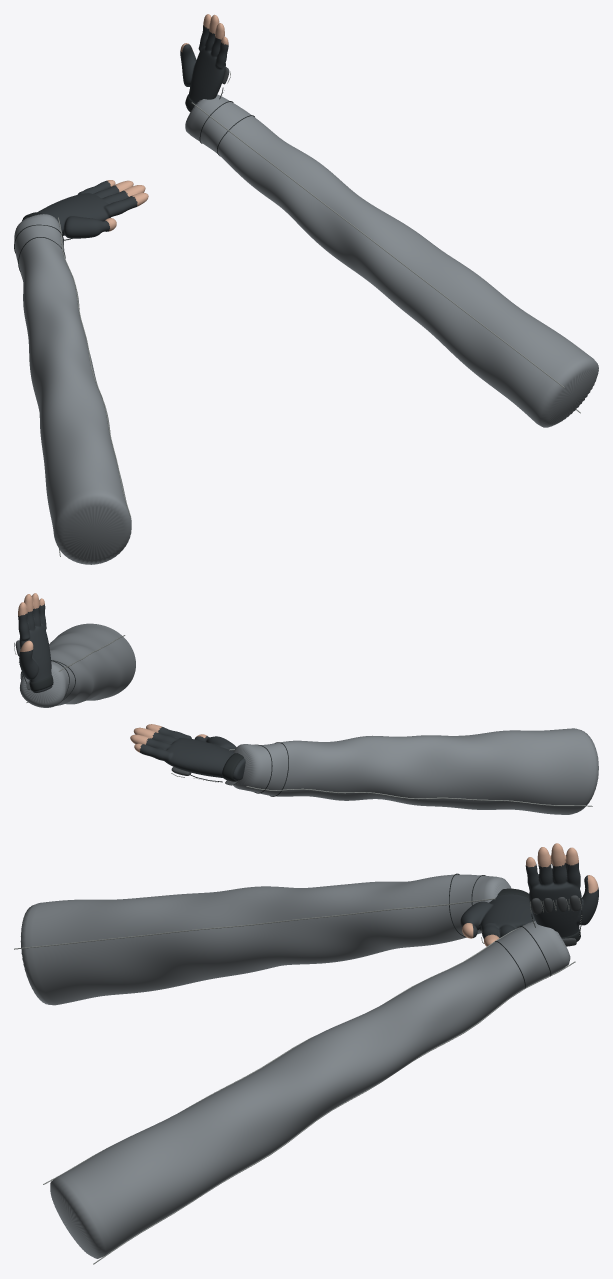
The model's file is support_arms.glb.
The picture shows the model from 3 angles, top to bottom: view 1: azimuth 30°, elevation 25°; view 2: azimuth 150°, elevation 25°; view 3: azimuth 270°, elevation 25°; orthographic projection. The views are drawn at different scales.
Visible parts, largest first — view 1: RightSupport, LeftSupport; view 2: LeftSupport, RightSupport; view 3: RightSupport, LeftSupport.
Part boxes in pixels (x1,y1,x2,y2): RightSupport: (180, 14, 598, 427); LeftSupport: (14, 180, 148, 564); LeftSupport: (130, 724, 598, 814); RightSupport: (14, 593, 135, 707); RightSupport: (43, 843, 598, 1264); LeftSupport: (14, 873, 535, 1005).
Bounding box in the file's own units: 1.85 × 0.9683 × 1.47.
